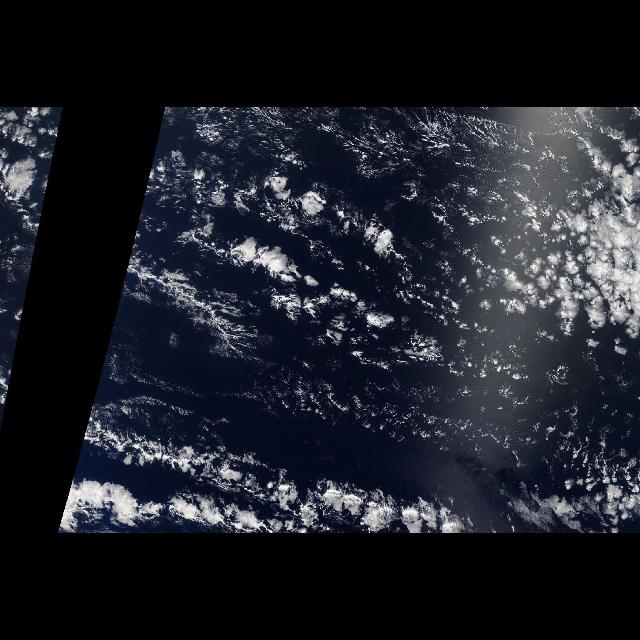Flower: (175, 162, 553, 392)
